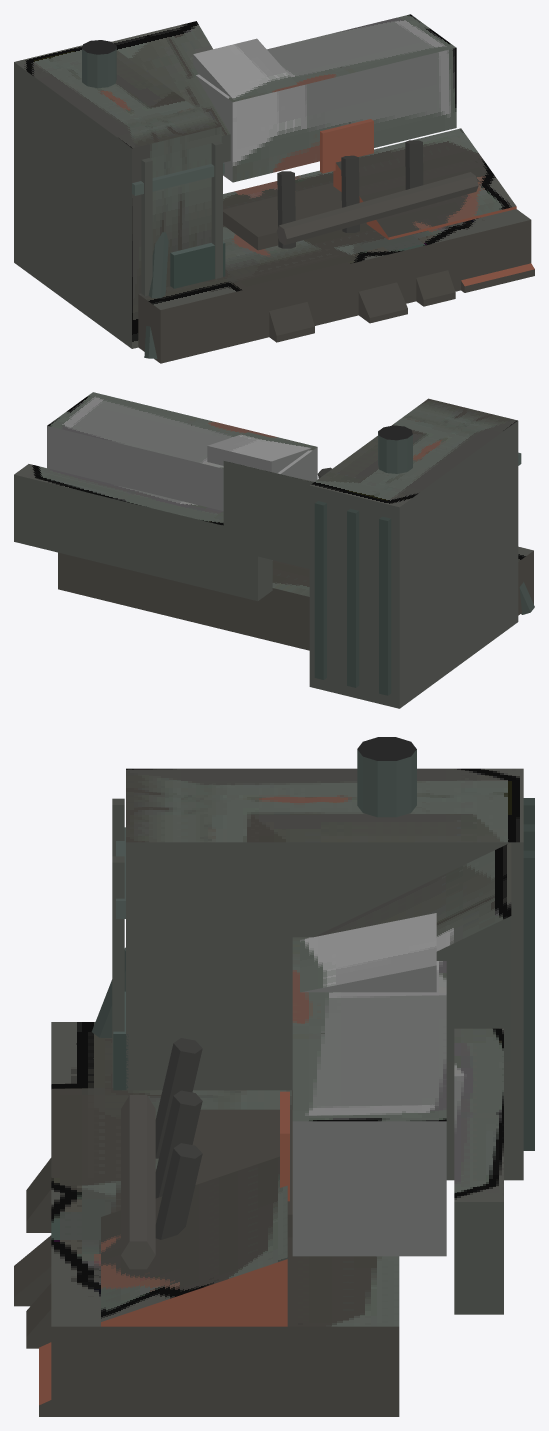
File: Building_AncientDropshipEngine.glb
3 views of the same model, one above another, from view 1: azimuth 30°, elevation 25°; view 2: azimuth 150°, elevation 25°; view 3: azimuth 270°, elevation 25° (orthographic). The views are drawn at different scales.
Parts seen in each view (by area): view 1: AncientDropshipEngine; view 2: AncientDropshipEngine; view 3: AncientDropshipEngine.
Part boxes in pixels (box(x1,y1,x2,y2)): AncientDropshipEngine: box(14, 14, 534, 363); AncientDropshipEngine: box(14, 392, 534, 708); AncientDropshipEngine: box(14, 737, 534, 1416).
Size of the model in its own units: 3.05 by 1.77 by 2.09.
Materials: 1 (1 with a texture image).
